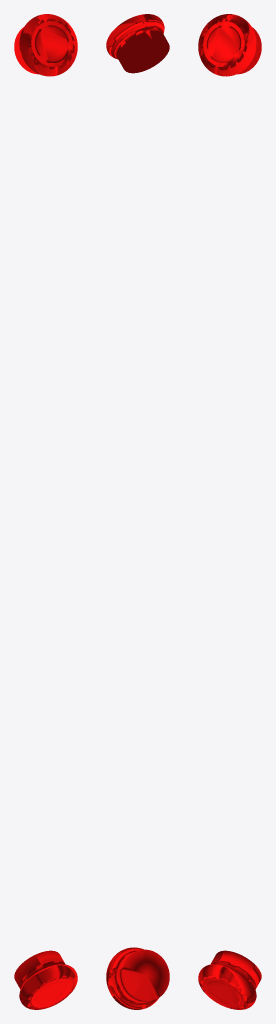
File: estop_button.dae
3 renders of one model, left to right at view 1: azimuth 30°, elevation 25°; view 2: azimuth 210°, elevation 25°; view 3: azimuth 330°, elevation 25°, orthographic.
Visible parts, largest first — view 1: Node_0x7f5028dffda0; view 2: Node_0x7f5028dffda0; view 3: Node_0x7f5028dffda0.
Boxes of the visible parts, <box> form: Node_0x7f5028dffda0: <box>14,14,77,1009</box>; Node_0x7f5028dffda0: <box>106,14,169,1009</box>; Node_0x7f5028dffda0: <box>198,14,261,1009</box>.
Size of the model in its own units: 0.0279 by 0.4869 by 0.0244.
